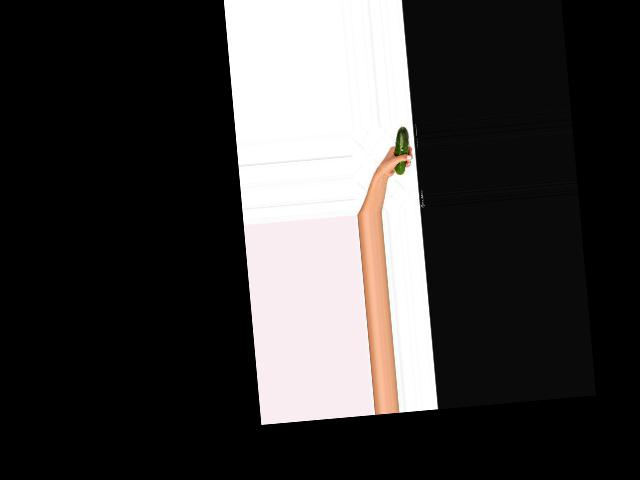cucumber: (391, 125, 412, 174)
